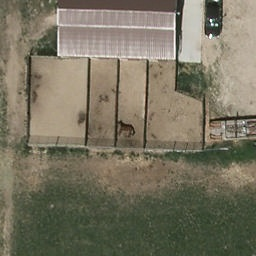car: (205, 0, 223, 38)
